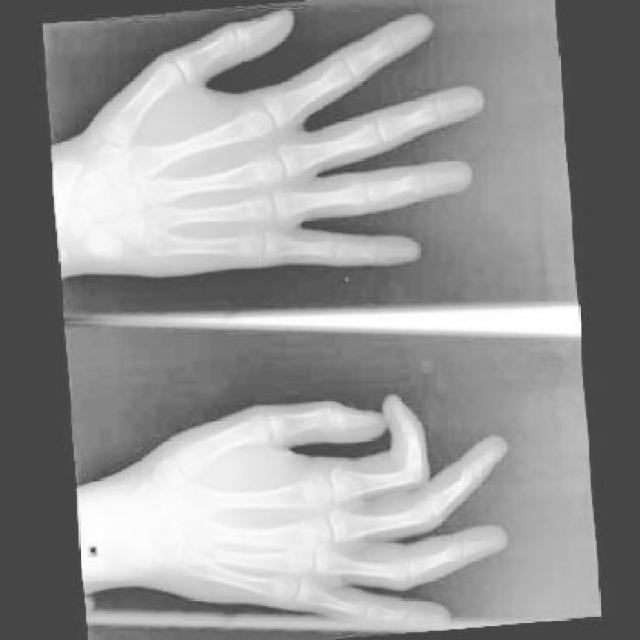Fracture: (405, 171, 425, 197), (446, 543, 462, 563)
